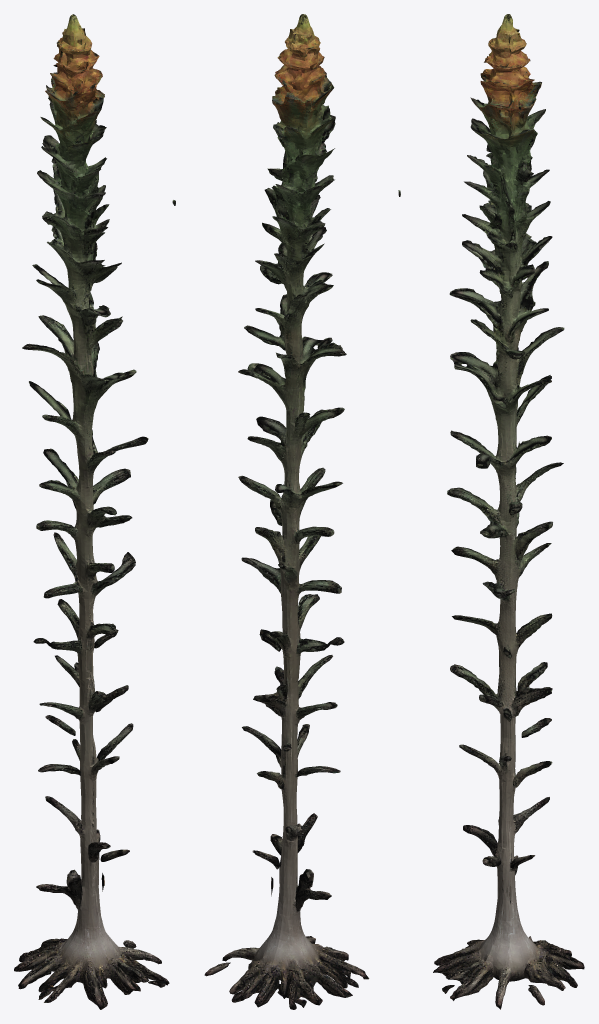
3 views of the same model, side by side, from view 1: azimuth 30°, elevation 25°; view 2: azimuth 150°, elevation 25°; view 3: azimuth 270°, elevation 25° (orthographic).
Parts seen in each view (by area): view 1: world; view 2: world; view 3: world.
Boxes of the visible parts, x1,y1,x2,y2 form: world: (14,14,175,1009); world: (204,14,369,1009); world: (398,14,584,1009).
Bounding box in the file's own units: 0.2661 × 1.8 × 0.3173.
Materials: 1 (1 with a texture image).
